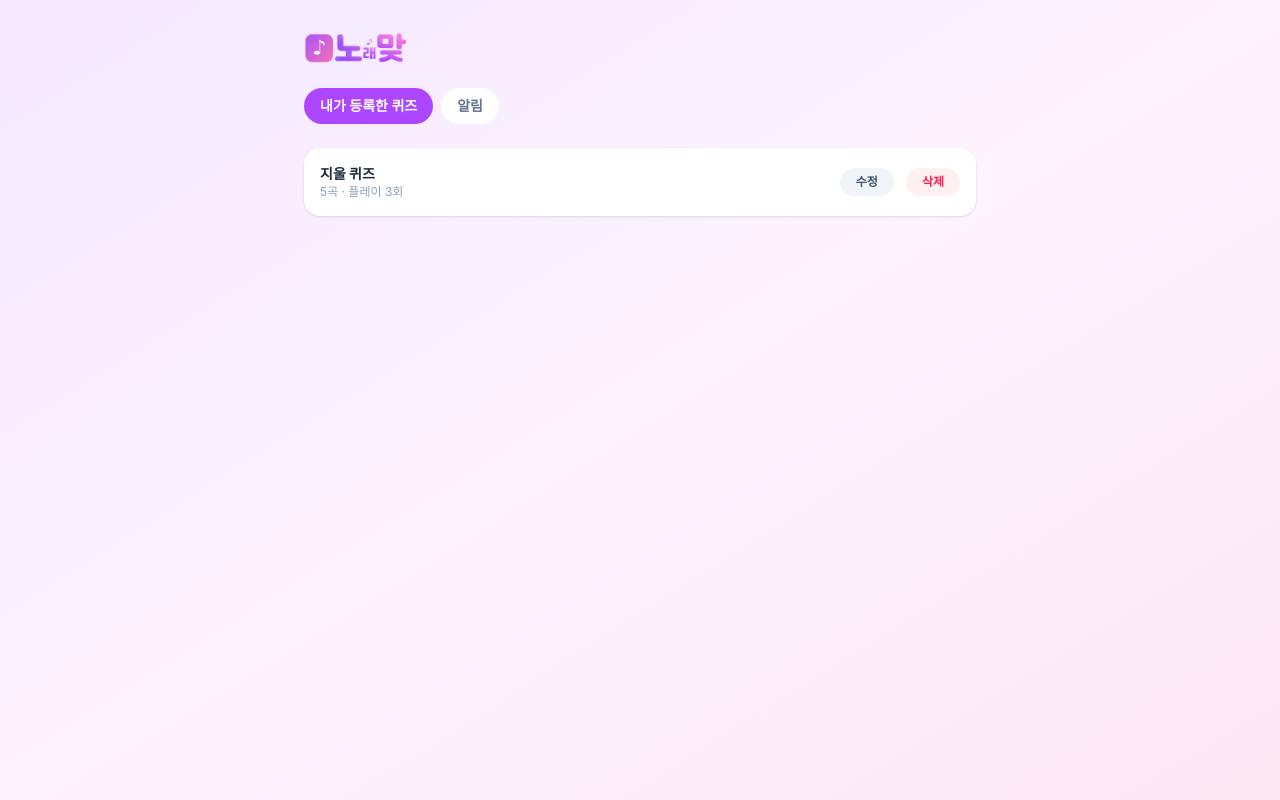
MyPage › 삭제 확인 모달에서 삭제하면 목록에서 사라진다
Expected: the text "지울 퀴즈" is shown, [320,165,375,182]
Click the button "삭제": (933, 182) [906,168,960,196]
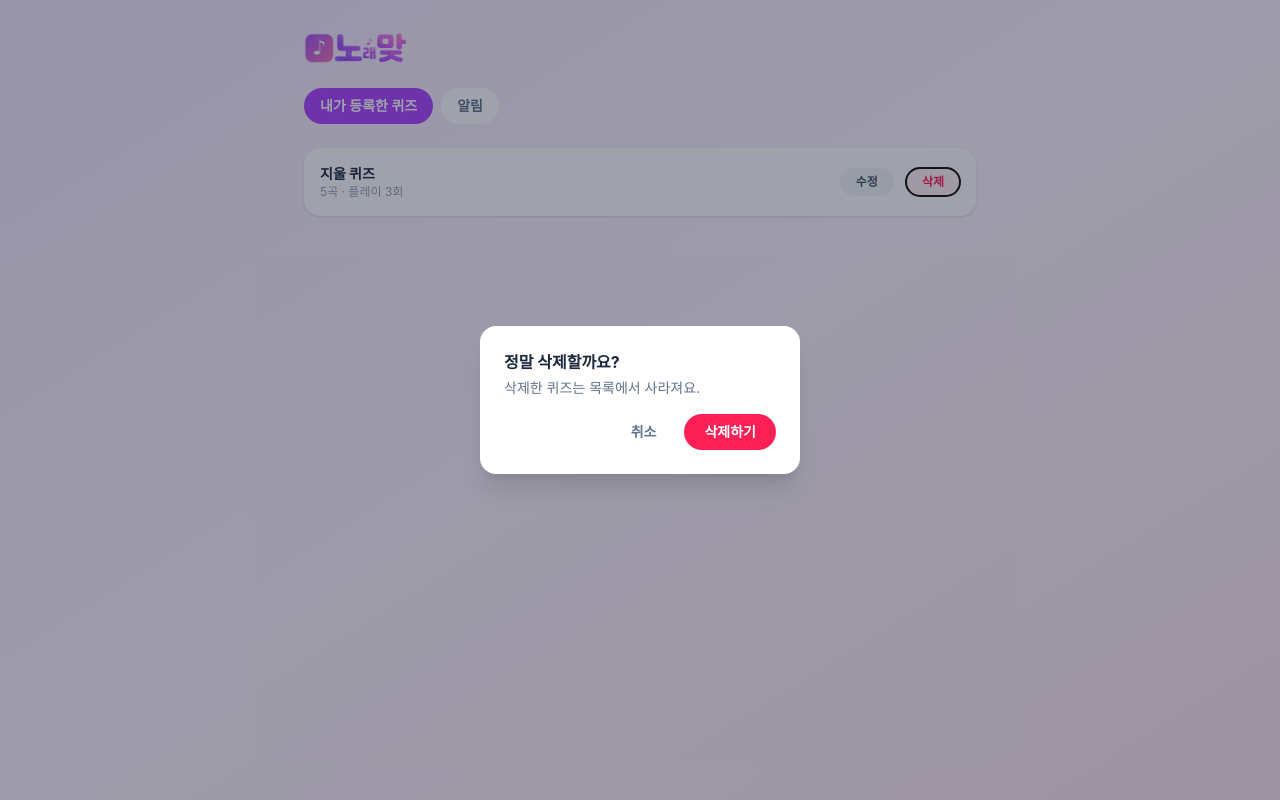
Expected: the heading "정말 삭제할까요?" is shown, [504,352,620,372]
Click the button "삭제하기": (730, 432) [684,414,776,450]
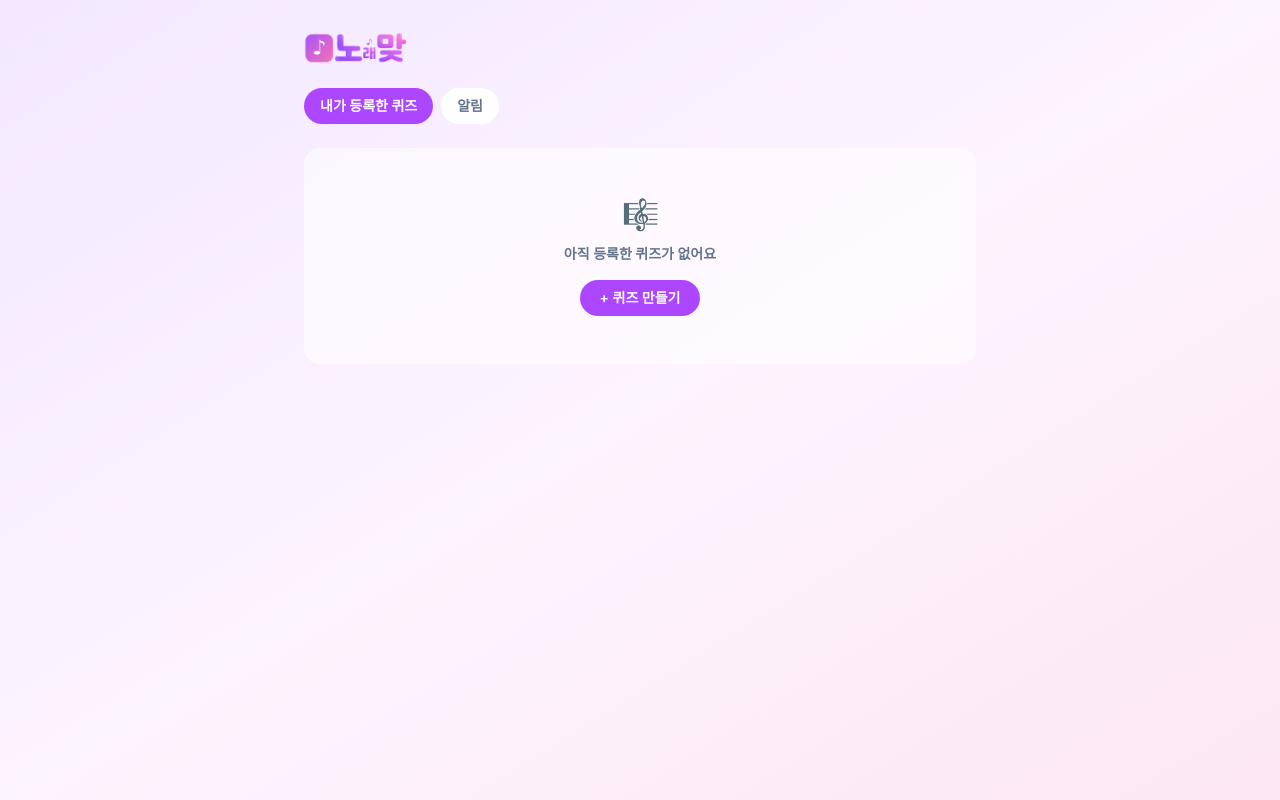
Expected: the text "아직 등록한 퀴즈가 없어요" is shown, [564,244,716,264]
